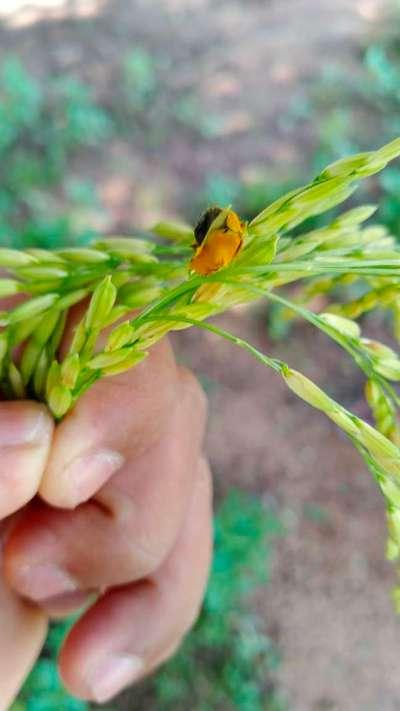False Smut: (178, 206, 254, 284)
